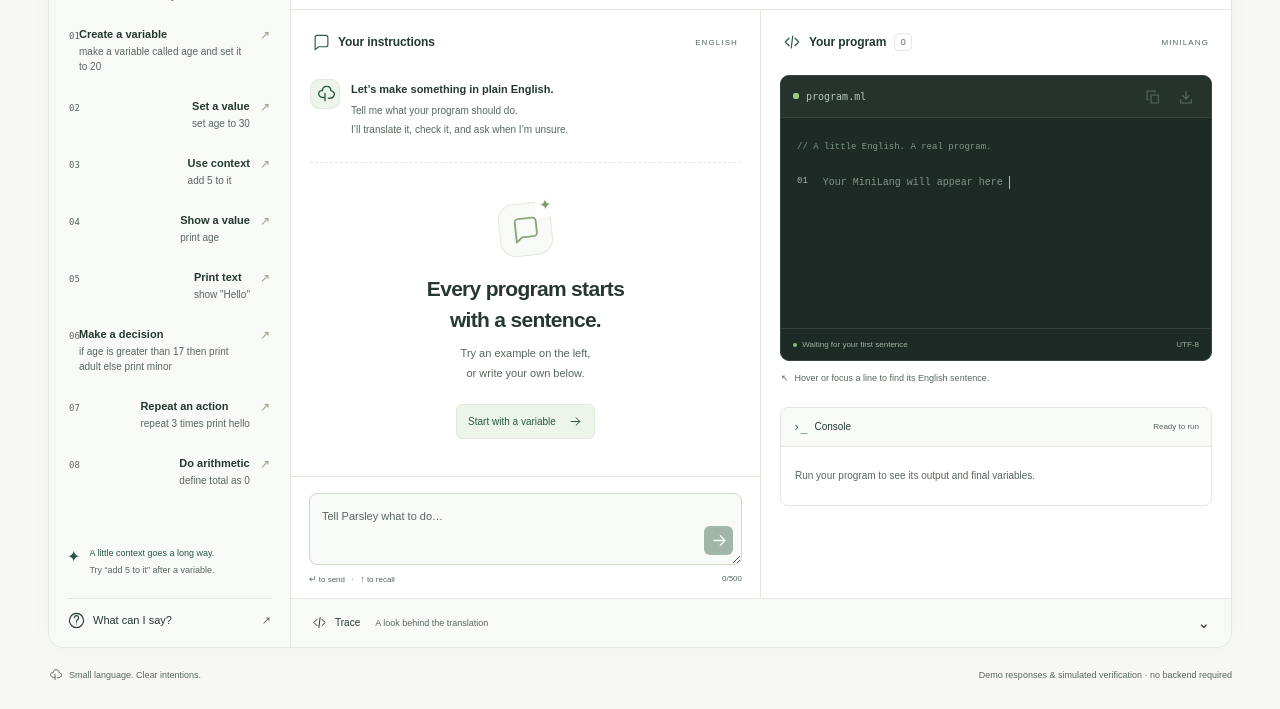
Test case: shows a pending sentence while the compiler is working
(page scrolled)
Step 1. Type "set age to 20" into the text box named "English sentence" → x=526, y=529, box [309,493,742,565]
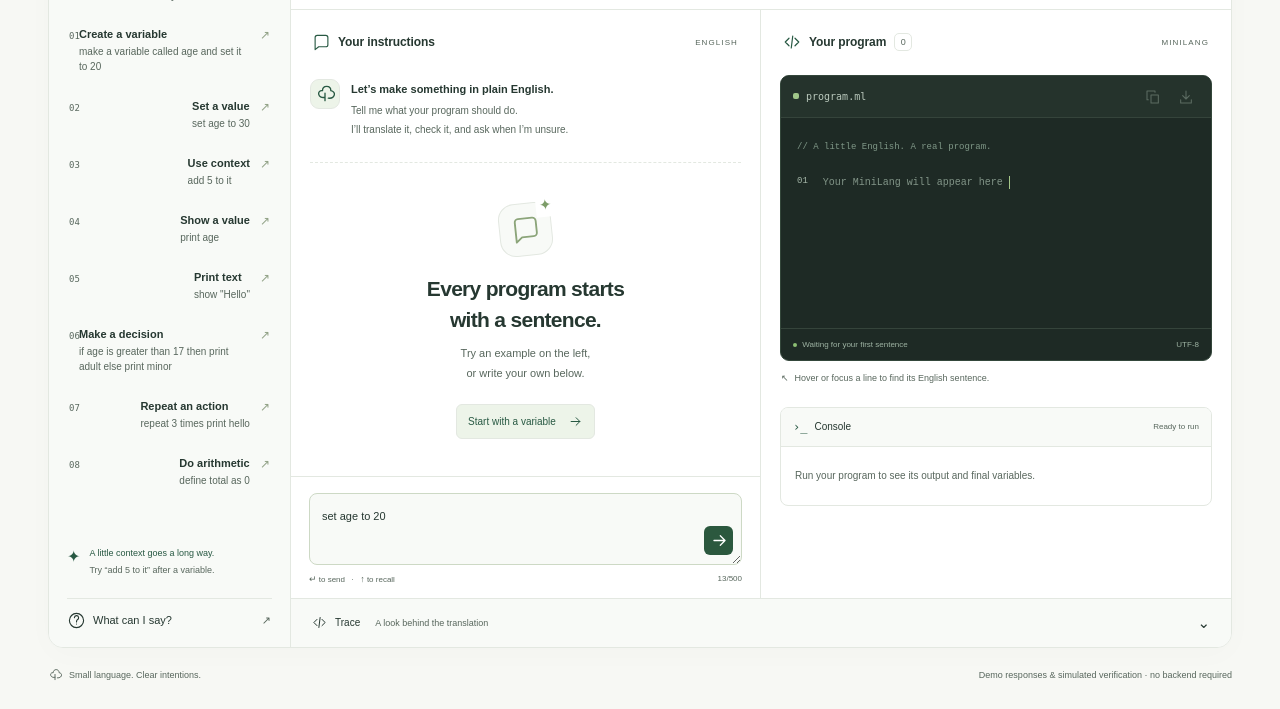
Step 2. Press Enter in the text box named "English sentence", box [309,493,742,565]
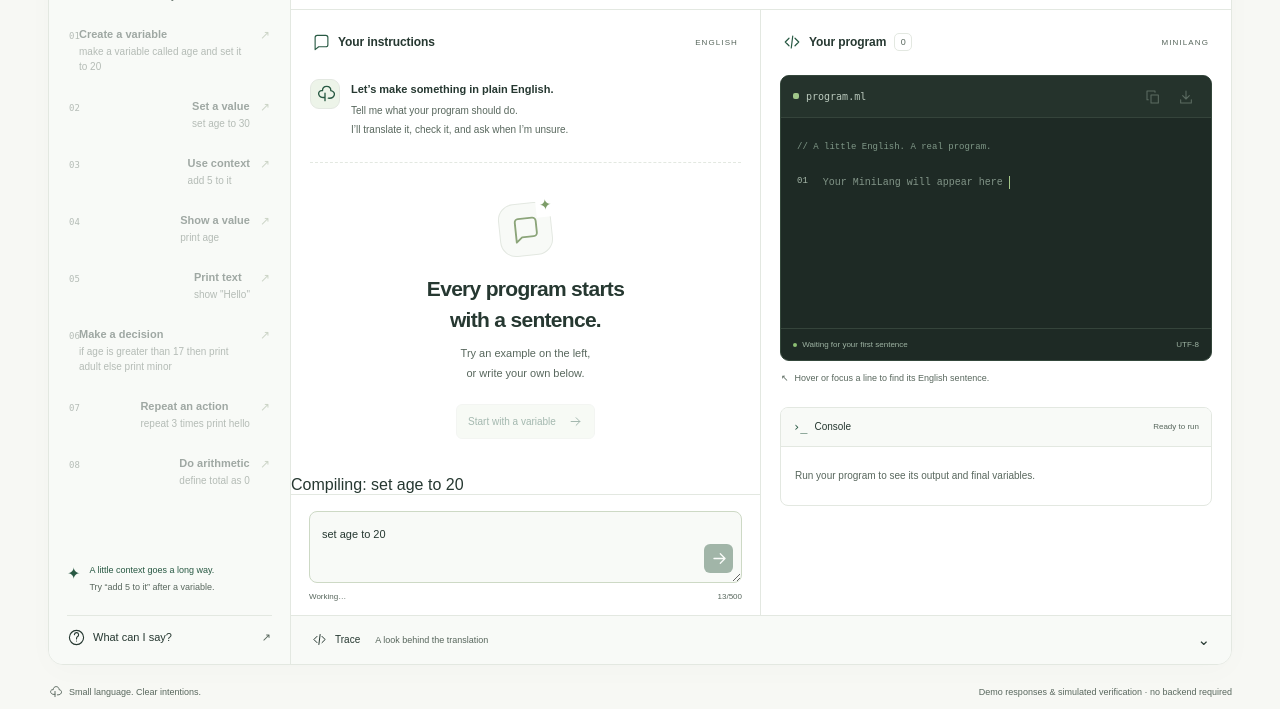
Now the text "Compiling: set age to 20" is shown, box [291,476,464,493]
